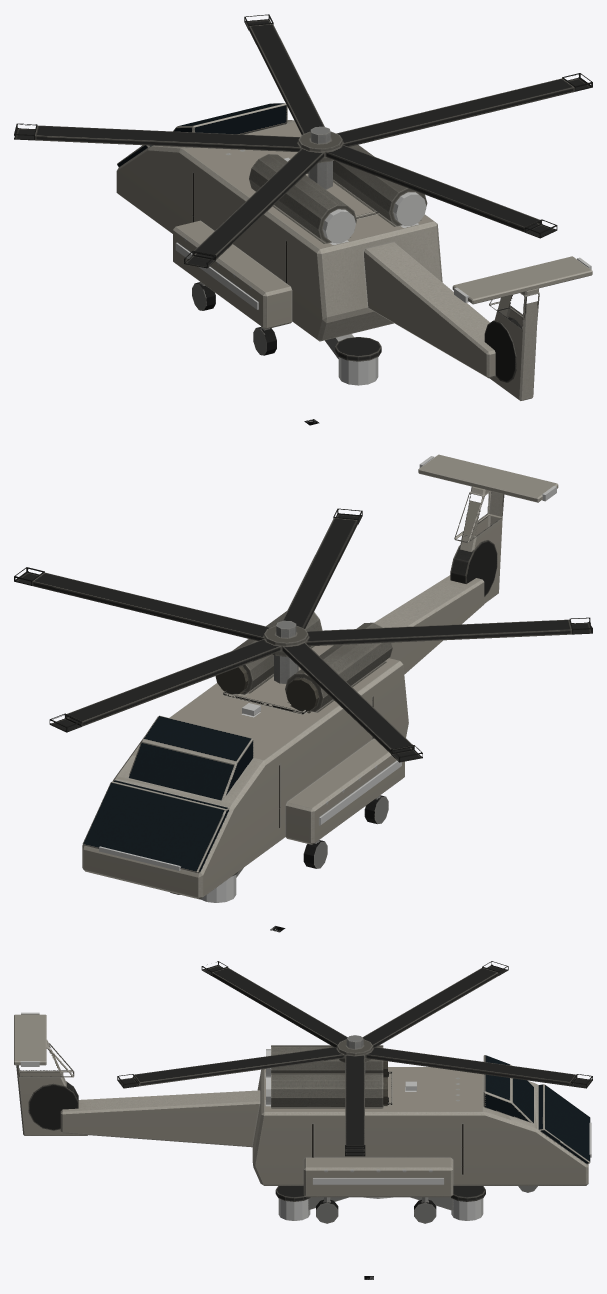
The model's file is ord_zenith.fbx.
3 views of the same model, one above another, from view 1: azimuth 30°, elevation 25°; view 2: azimuth 150°, elevation 25°; view 3: azimuth 270°, elevation 25° (orthographic). The views are drawn at different scales.
Parts seen in each view (by area): view 1: base_bar, rotor_bar, base_glow_running_bar, tailRotor_bar, nano_bar, nano_glow_power_bar; view 2: base_bar, rotor_bar, tailRotor_bar, base_glow_running_bar; view 3: base_bar, rotor_bar, tailRotor_bar, base_glow_running_bar, nano_bar, nano_glow_power_bar.
Boxes of the visible parts, x1=… form: base_bar: x1=116, y1=103, x2=592, y2=400; rotor_bar: x1=14, y1=14, x2=592, y2=268; base_glow_running_bar: x1=175, y1=157, x2=591, y2=309; tailRotor_bar: x1=484, y1=317, x2=521, y2=382; nano_bar: x1=325, y1=334, x2=381, y2=361; nano_glow_power_bar: x1=338, y1=357, x2=378, y2=385; base_bar: x1=82, y1=454, x2=558, y2=899; rotor_bar: x1=14, y1=508, x2=592, y2=762; tailRotor_bar: x1=450, y1=540, x2=497, y2=596; base_glow_running_bar: x1=99, y1=456, x2=556, y2=870; base_bar: x1=14, y1=1014, x2=590, y2=1223; rotor_bar: x1=117, y1=961, x2=592, y2=1156; tailRotor_bar: x1=28, y1=1081, x2=78, y2=1130; base_glow_running_bar: x1=21, y1=1012, x2=591, y2=1184; nano_bar: x1=275, y1=1186, x2=485, y2=1210; nano_glow_power_bar: x1=278, y1=1197, x2=483, y2=1220.
Size of the model in its own units: 968 by 568 by 1239.
2 materials, 2 textured.
